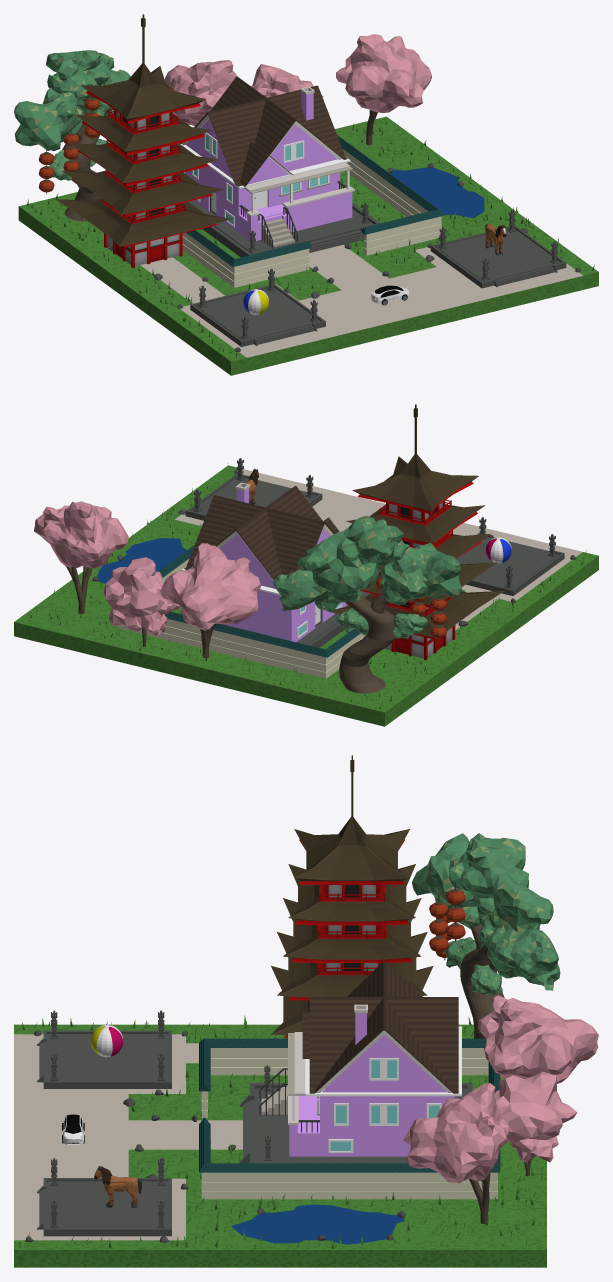
The picture shows the model from 3 angles, top to bottom: view 1: azimuth 30°, elevation 25°; view 2: azimuth 150°, elevation 25°; view 3: azimuth 270°, elevation 25°; orthographic projection. The views are drawn at different scales.
Visible parts, largest first — view 1: Cube.005, Cube.391, VEHICLES_TESLA, OBJRANDOM_BEACHBALL, ANIMAL_CABALLO; view 2: Cube.005, Cube.391, OBJRANDOM_BEACHBALL; view 3: Cube.005, Cube.391, ANIMAL_CABALLO, OBJRANDOM_BEACHBALL.
Part boxes in pixels (<box>): Cube.005: <box>14,14,598,375</box>; Cube.391: <box>179,76,354,248</box>; VEHICLES_TESLA: <box>371,285,409,305</box>; OBJRANDOM_BEACHBALL: <box>243,289,268,314</box>; ANIMAL_CABALLO: <box>485,223,506,255</box>; Cube.005: <box>14,404,598,726</box>; Cube.391: <box>181,482,347,642</box>; OBJRANDOM_BEACHBALL: <box>486,537,511,563</box>; Cube.005: <box>14,755,598,1267</box>; Cube.391: <box>259,961,461,1156</box>; ANIMAL_CABALLO: <box>94,1166,141,1207</box>; OBJRANDOM_BEACHBALL: <box>91,1024,122,1057</box>.
Bounding box in the file's own units: 4528 × 2842 × 4389.
Materials: 42 (5 with a texture image).
